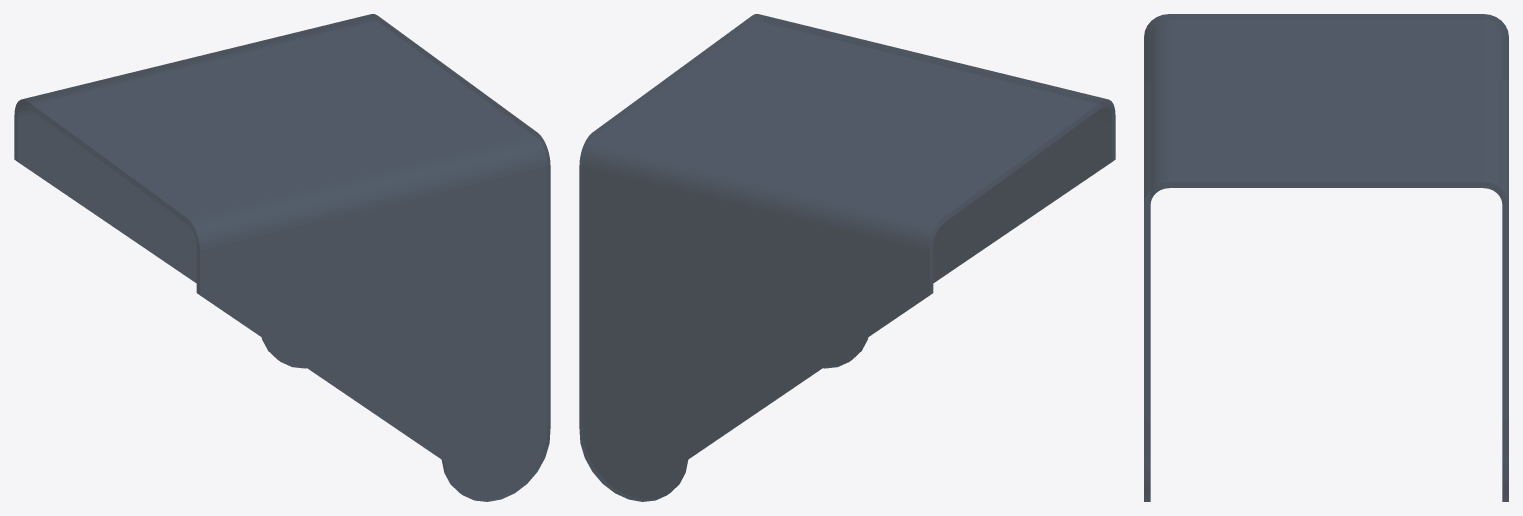
The model's file is original-21.obj.
3 views of the same model, side by side, from view 1: azimuth 30°, elevation 25°; view 2: azimuth 150°, elevation 25°; view 3: azimuth 270°, elevation 25° (orthographic).
Visible parts, largest first — view 1: Group14/mesh19/mesh19-geometry#mesh19-geometry; view 2: Group14/mesh19/mesh19-geometry#mesh19-geometry; view 3: Group14/mesh19/mesh19-geometry#mesh19-geometry.
Part boxes in pixels (bbox=[...]): Group14/mesh19/mesh19-geometry#mesh19-geometry: bbox=[14, 14, 550, 501]; Group14/mesh19/mesh19-geometry#mesh19-geometry: bbox=[579, 14, 1115, 501]; Group14/mesh19/mesh19-geometry#mesh19-geometry: bbox=[1144, 14, 1508, 501].
Size of the model in its own units: 0.0694 by 0.0654 by 0.0637.
